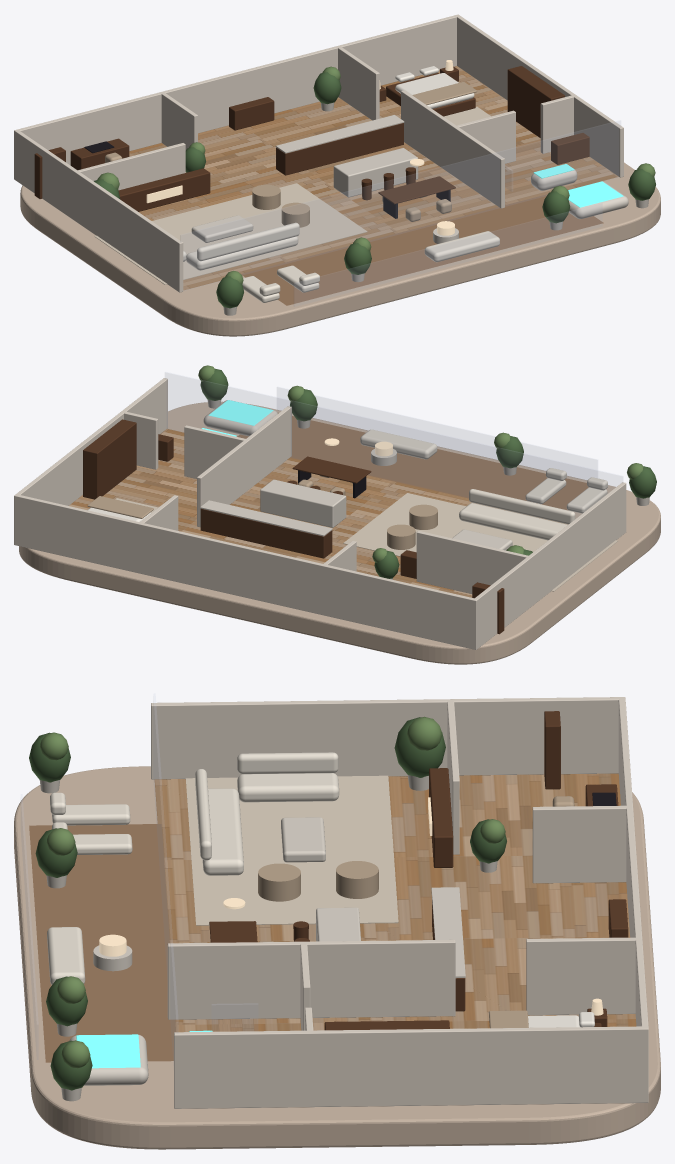
Rendered from residencia.glb.
3 renders of one model, top to bottom at view 1: azimuth 30°, elevation 25°; view 2: azimuth 150°, elevation 25°; view 3: azimuth 270°, elevation 25°, orthographic. The views are drawn at different scales.
Size of what is drawn, in the model's own units: 22.03 by 3.2 by 16.6.
Materials: 16 (1 with a texture image).
